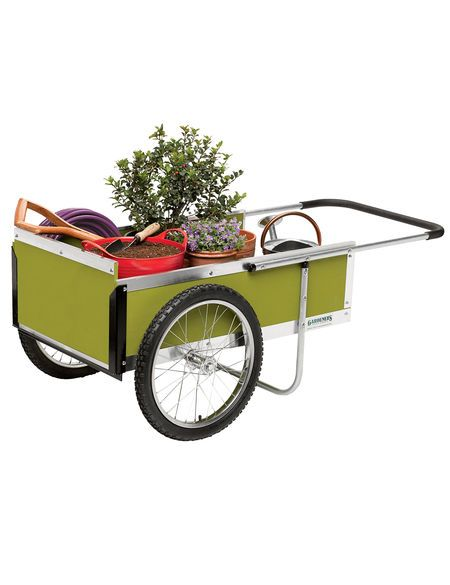Carts: (12, 198, 443, 439)
